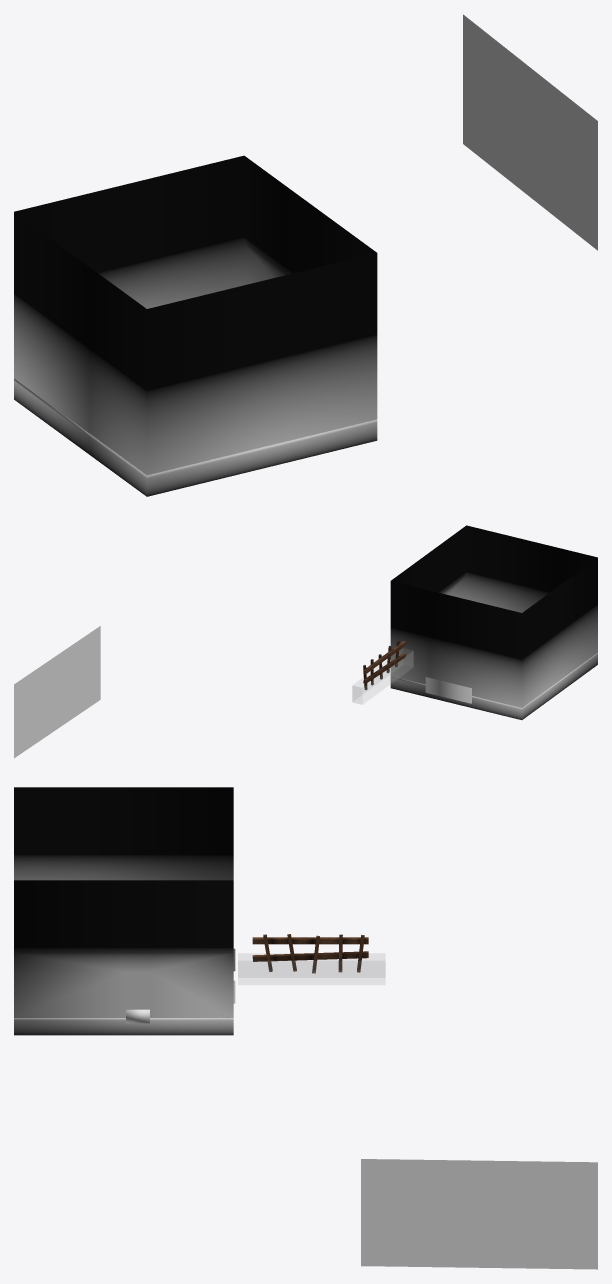
Rendered from Map1.dae.
3 renders of one model, top to bottom at view 1: azimuth 30°, elevation 25°; view 2: azimuth 150°, elevation 25°; view 3: azimuth 270°, elevation 25°, orthographic. The views are drawn at different scales.
Parts seen in each view (by area): view 1: World-M8-wall-NDS, trigger-01, World-M8-gnd-wood; view 2: World-M8-wall-NDS, trigger-01, World-M8-gnd-wood, LittleHouse-wall_001, desk-wall; view 3: World-M8-wall-NDS, trigger-01, LittleHouse-wall_001, World-M8-gnd-wood.
Part boxes in pixels (bbox=[...]): World-M8-wall-NDS: bbox=[14, 155, 377, 475]; trigger-01: bbox=[463, 14, 597, 250]; World-M8-gnd-wood: bbox=[14, 378, 377, 496]; World-M8-wall-NDS: bbox=[390, 525, 597, 707]; trigger-01: bbox=[14, 626, 100, 758]; World-M8-gnd-wood: bbox=[390, 653, 597, 719]; LittleHouse-wall_001: bbox=[352, 640, 413, 704]; desk-wall: bbox=[425, 677, 471, 703]; World-M8-wall-NDS: bbox=[14, 787, 233, 1017]; trigger-01: bbox=[361, 1159, 597, 1269]; LittleHouse-wall_001: bbox=[238, 934, 385, 984]; World-M8-gnd-wood: bbox=[14, 1017, 233, 1035].
Bounding box in the file's own units: 14.65 × 13.4 × 5.37.
